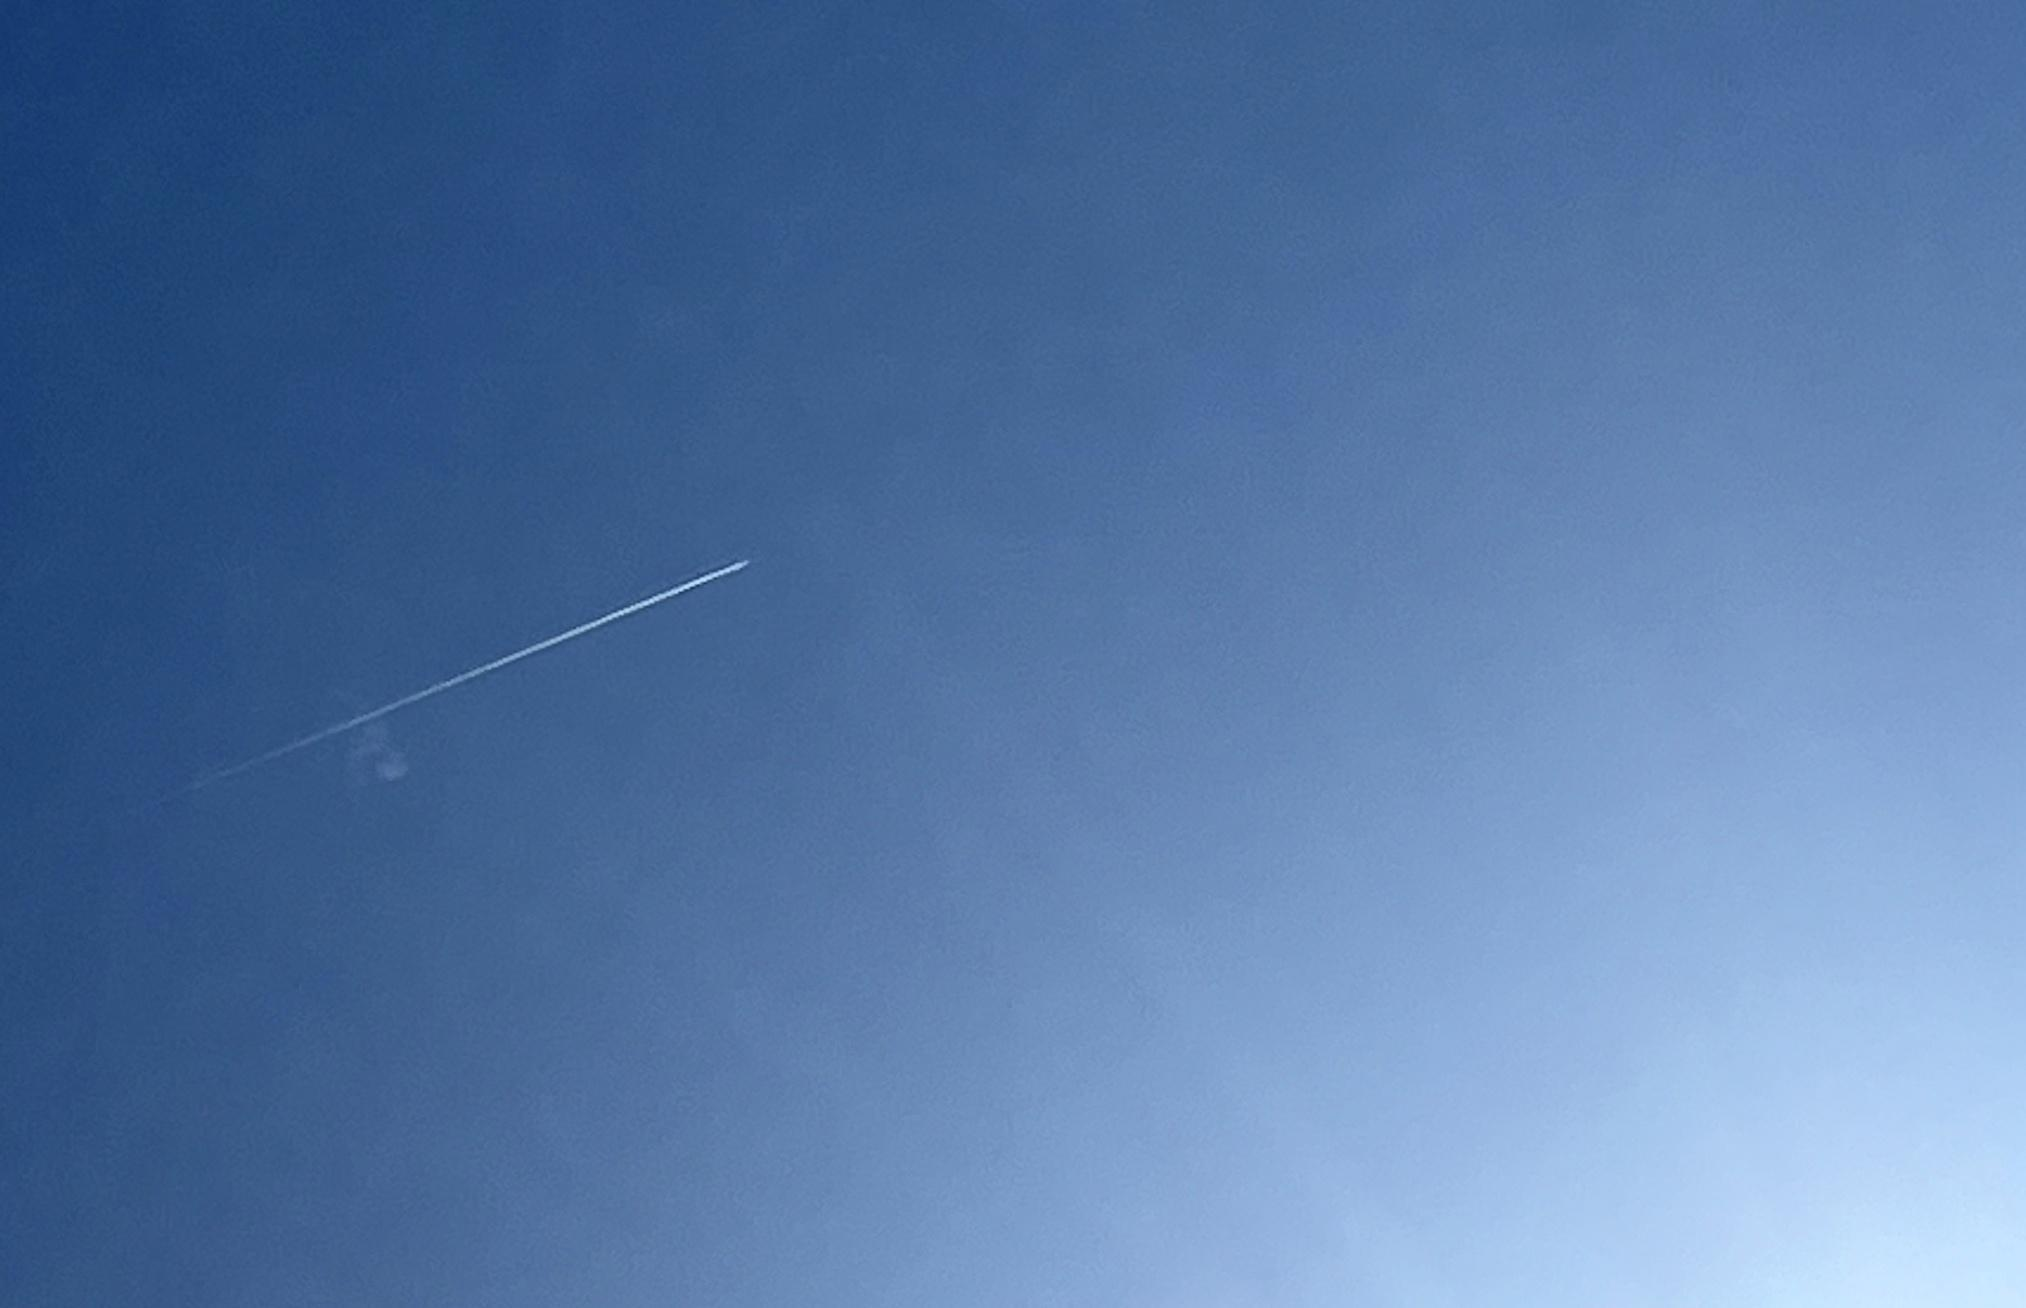Plane: (540, 475, 809, 678)
